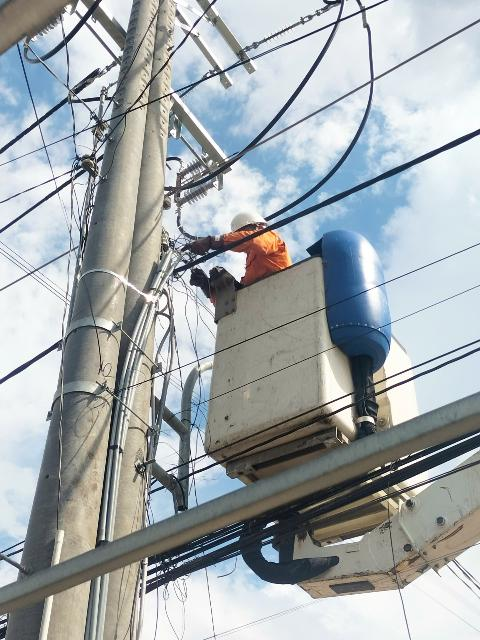gloves: (187, 233, 229, 256), (188, 269, 217, 296)
helmet: (221, 205, 276, 236)
